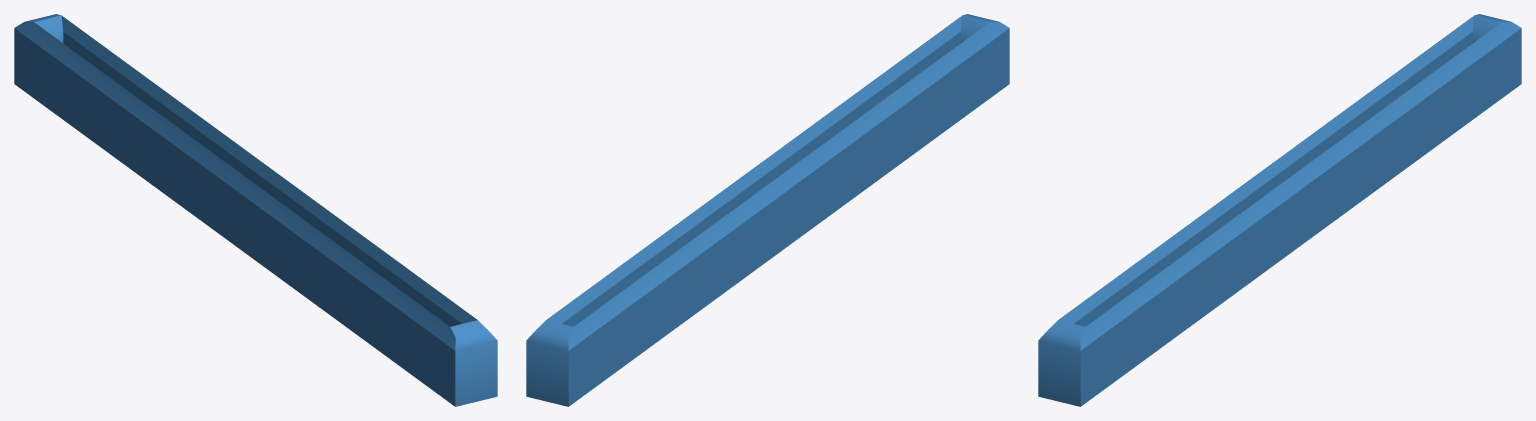
Rendered from forozu.fbx.
3 views of the same model, side by side, from view 1: azimuth 30°, elevation 25°; view 2: azimuth 150°, elevation 25°; view 3: azimuth 330°, elevation 25° (orthographic).
Visible parts, largest first — view 1: Cube; view 2: Cube; view 3: Cube.
Part boxes in pixels (<box>): Cube: <box>14,14,497,406</box>; Cube: <box>526,14,1009,406</box>; Cube: <box>1038,14,1521,406</box>.
Size of the model in its own units: 10.94 by 17.11 by 198.
